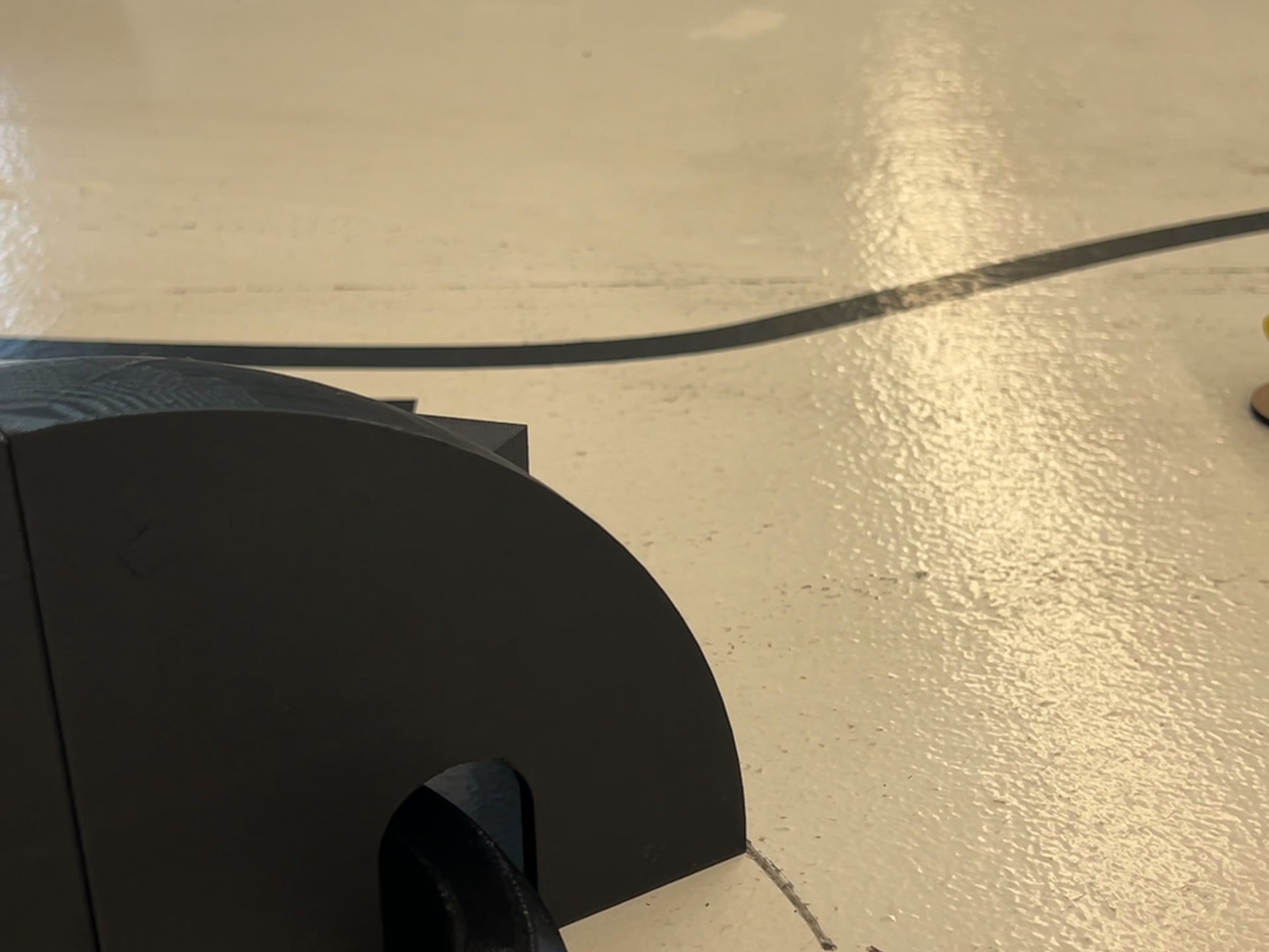teletubby: (1262, 312, 1268, 338)
